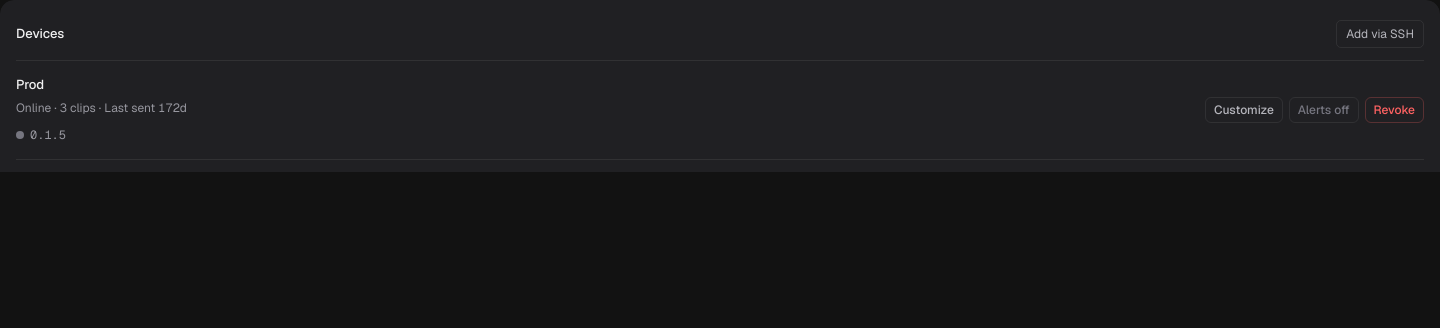
Scenario: DevicesPanel › saves via the Save button and closes the customize panel on success
Step 1. Click the button with aria-label "customize prod" → (1244, 110), box left=1205, top=97, right=1283, bottom=123
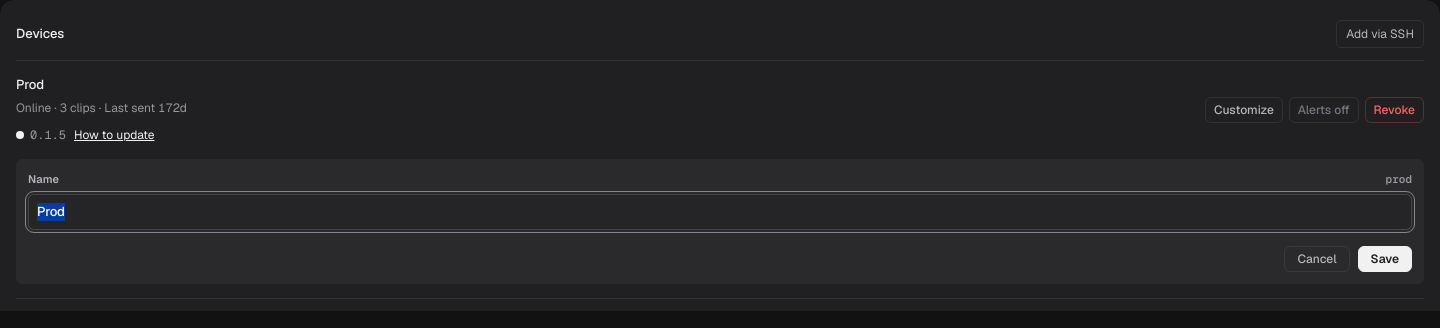
Step 2. Replace the text in the field named "device display name" with "Build Mac" → (720, 212), box left=28, top=194, right=1412, bottom=230
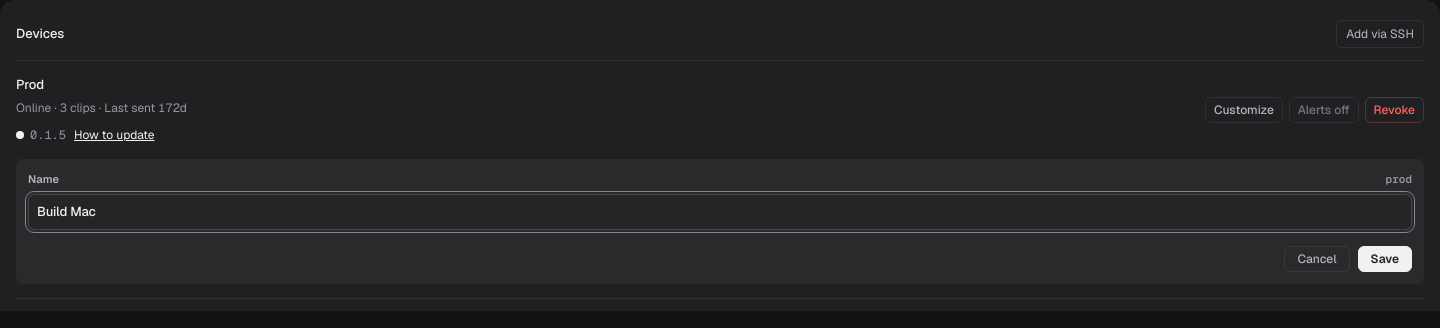
Step 3. Click the button with aria-label "save display name for prod" → (1385, 259), box left=1358, top=246, right=1412, bottom=272
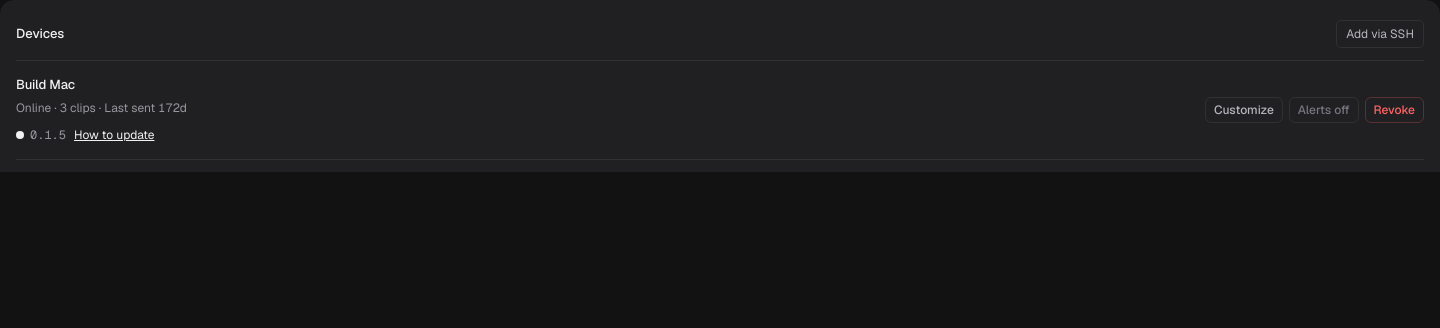
Expected: the field labelled "device settings for prod" is gone
